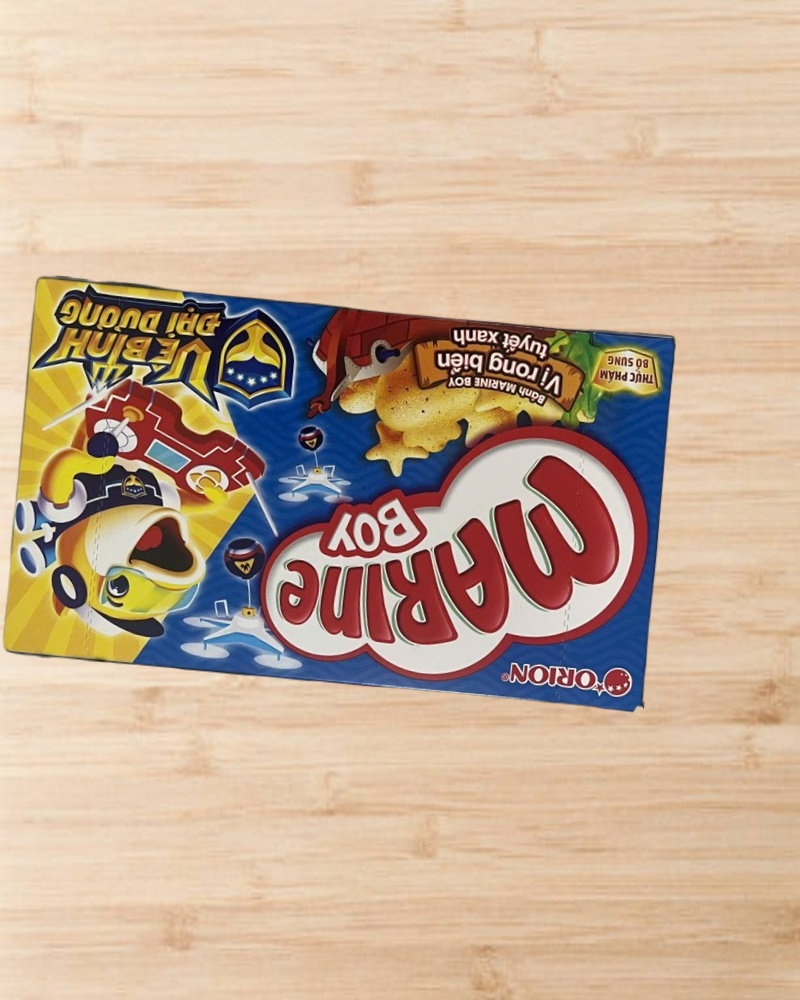Marine: (1, 276, 677, 713)
